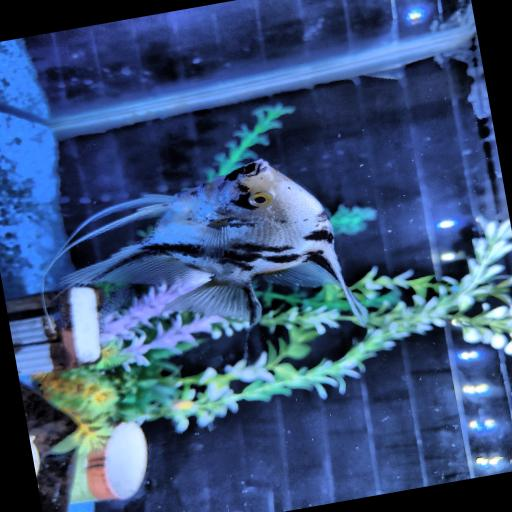Fish: (56, 160, 366, 326)
